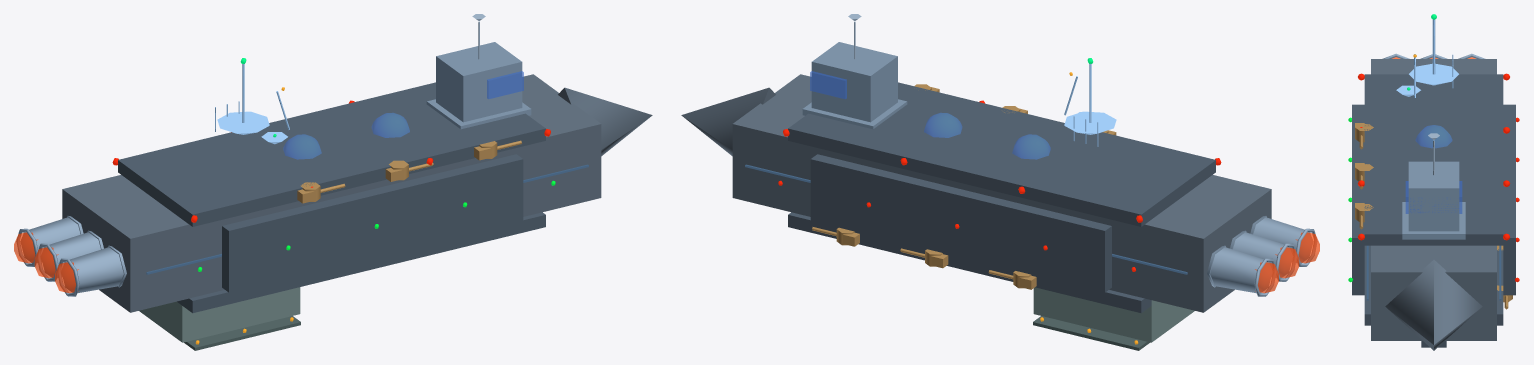
Rendered from capital-ship.glb.
3 views of the same model, side by side, from view 1: azimuth 30°, elevation 25°; view 2: azimuth 150°, elevation 25°; view 3: azimuth 270°, elevation 25° (orthographic). The views are drawn at different scales.
Visible parts, largest first — view 1: detail_plateTop, hull_body, detail_armorR, bridge, engines, hangar, detail_plateBottom, hull_bow, turrets, comms, hull, static_shieldL (+1 smaller); view 2: detail_plateTop, hull_body, detail_armorL, bridge, engines, hangar, detail_plateBottom, hull_bow, turrets, comms, hull, static_shieldL (+1 smaller); view 3: detail_plateTop, hull_body, bridge, hull_bow, detail_armorL, detail_armorR, comms, detail_plateBottom, turrets, hull, static_shieldL, engines.
Boxes of the visible parts, x1,y1,x2,y2 form: detail_plateTop: (118, 82, 545, 226); hull_body: (62, 74, 601, 312); detail_armorR: (222, 154, 523, 292); bridge: (426, 14, 531, 129); engines: (14, 216, 126, 296); hangar: (139, 287, 300, 350); detail_plateBottom: (177, 212, 545, 313); hull_bow: (558, 87, 652, 156); turrets: (297, 140, 521, 203); comms: (215, 58, 289, 144); hull: (112, 100, 588, 274); static_shieldL: (283, 134, 321, 159); detail_plateTop: (788, 82, 1215, 226); hull_body: (732, 74, 1271, 312); detail_armorL: (810, 154, 1111, 292); bridge: (802, 14, 907, 129); engines: (1207, 216, 1319, 296); hangar: (1033, 287, 1194, 350); detail_plateBottom: (788, 212, 1151, 313); hull_bow: (681, 87, 775, 156); turrets: (812, 84, 1116, 289); comms: (1064, 58, 1116, 146); hull: (745, 100, 1221, 274); static_shieldL: (1012, 134, 1050, 159); detail_plateTop: (1364, 74, 1503, 245); hull_body: (1371, 59, 1496, 340); bridge: (1402, 133, 1465, 239); hull_bow: (1385, 260, 1482, 350); detail_armorL: (1503, 104, 1515, 295); detail_armorR: (1352, 104, 1364, 295); comms: (1396, 14, 1458, 97); detail_plateBottom: (1364, 245, 1503, 325); turrets: (1355, 123, 1512, 309); hull: (1348, 73, 1519, 300); static_shieldL: (1415, 125, 1452, 147); engines: (1382, 53, 1485, 58).
Size of the model in its own units: 105 by 40.25 by 27.2.
